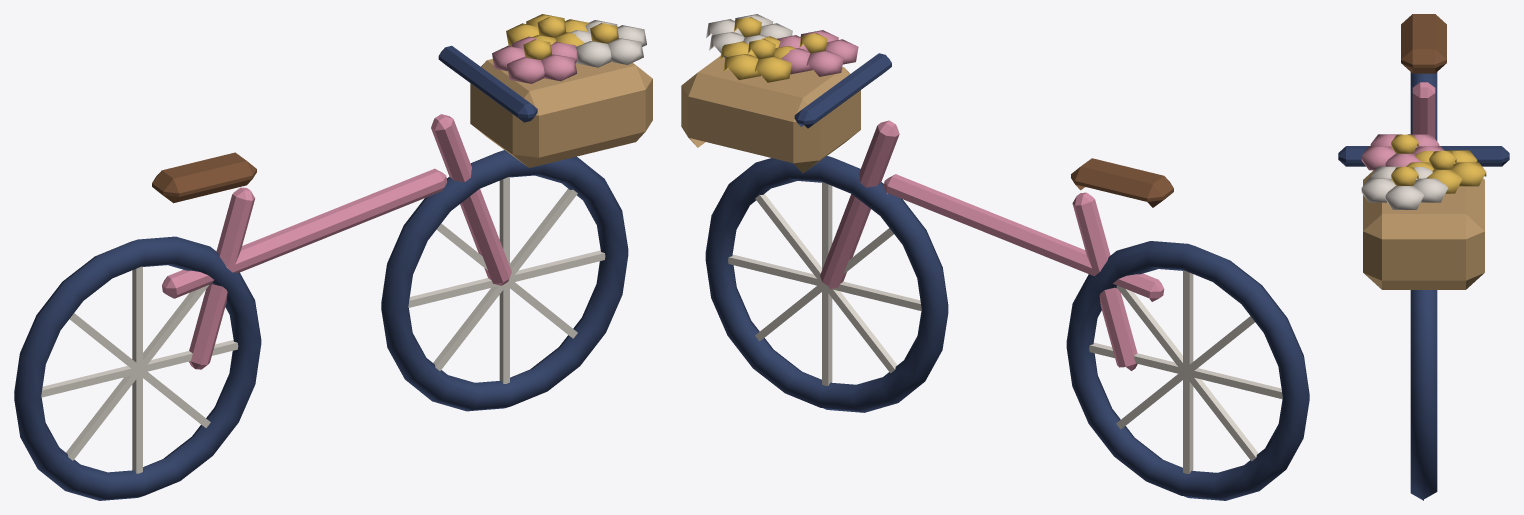
File: ac_bike.glb
The picture shows the model from 3 angles, left to right: view 1: azimuth 30°, elevation 25°; view 2: azimuth 150°, elevation 25°; view 3: azimuth 270°, elevation 25°; orthographic projection.
Parts seen in each view (by area): view 1: Torus; view 2: Torus; view 3: Torus.
Boxes of the visible parts, x1,y1,x2,y2 form: Torus: (14,14,652,500); Torus: (681,14,1309,500); Torus: (1338,14,1509,500).
Bounding box in the file's own units: 1.86 × 1.06 × 0.4499.
